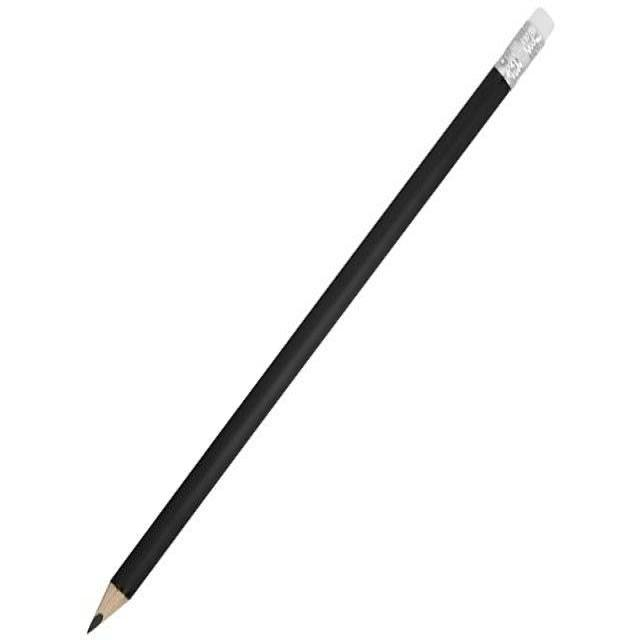pencil: (78, 0, 566, 640)
